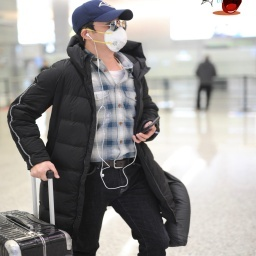correctlyWear: (79, 17, 128, 52)
